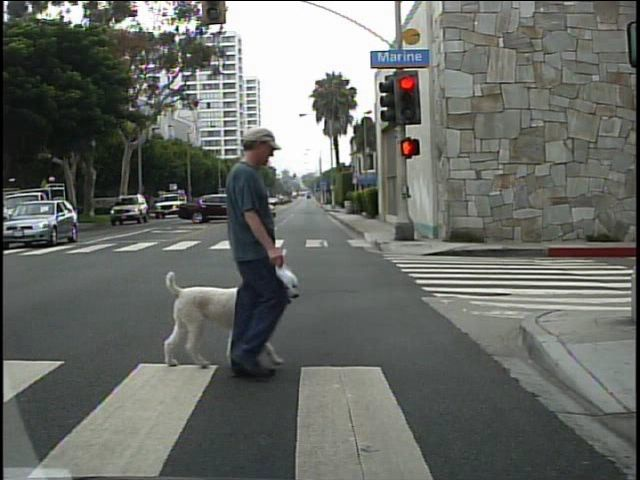person: (182, 119, 320, 386)
